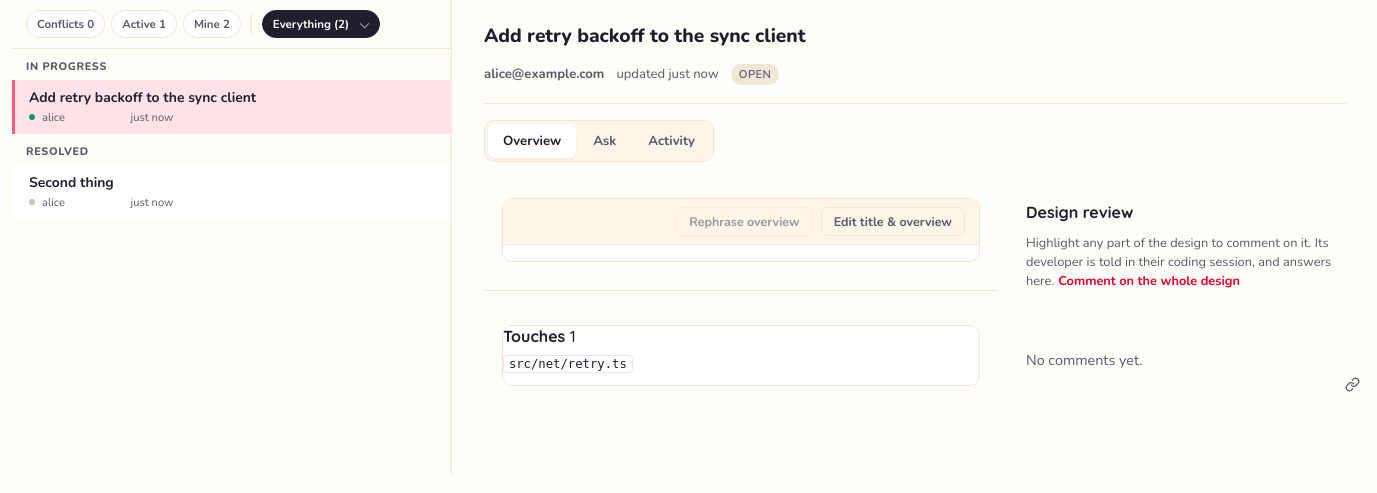
Test: WorkView (desktop baseline) › narrows the list through the Showing selector
expect the text "Add retry backoff to the sync client" below "In progress" is shown: met, box x1=29 y1=88 x2=256 y2=107
expect the text "Second thing" is shown: met, box x1=29 y1=174 x2=114 y2=193
Select "Closed (1)" in the dropdown named "Finished work" at (321, 24), box x1=263 y1=11 x2=379 y2=37
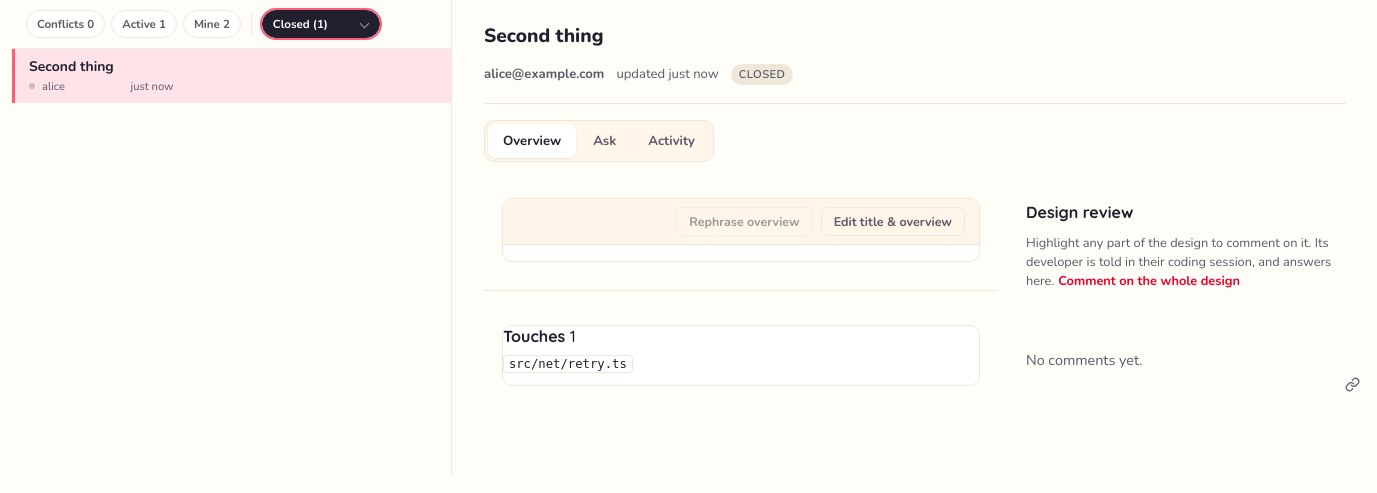
expect the 2nd text "Second thing" is shown: met, box x1=29 y1=58 x2=114 y2=77
expect the button "Add retry backoff to the sync client" is gone: met
